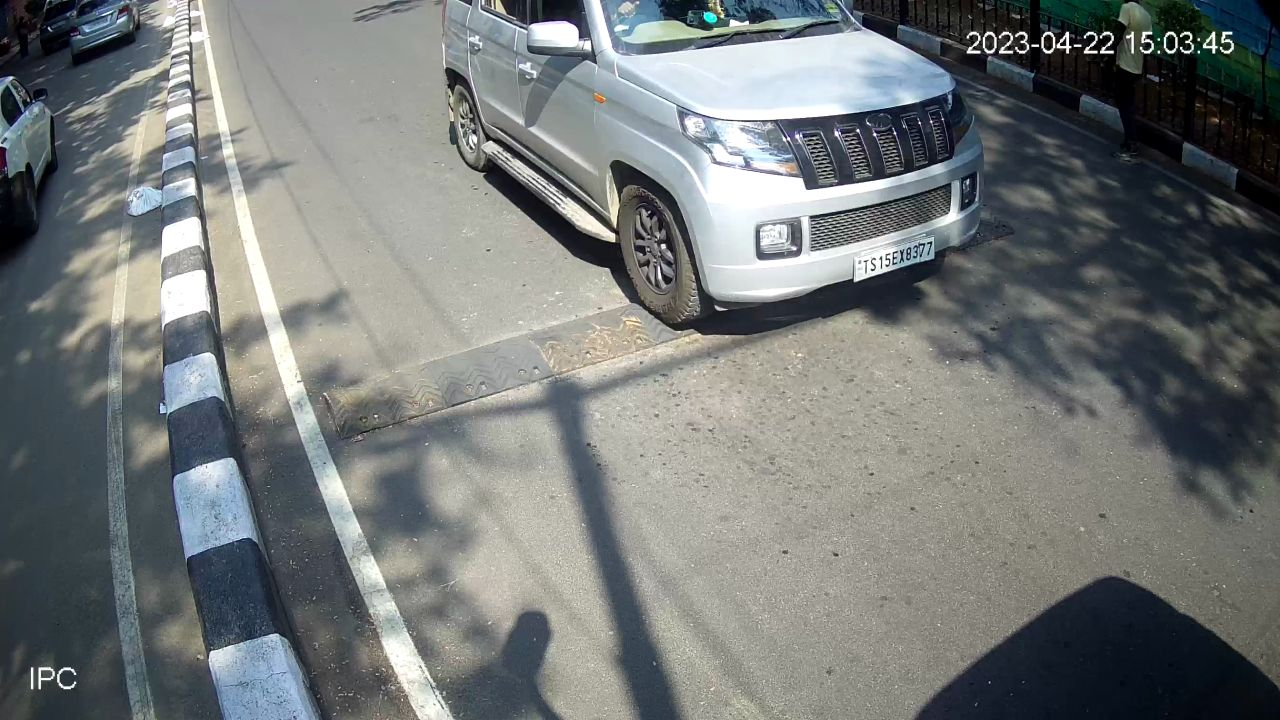license_plate: (848, 228, 941, 291)
